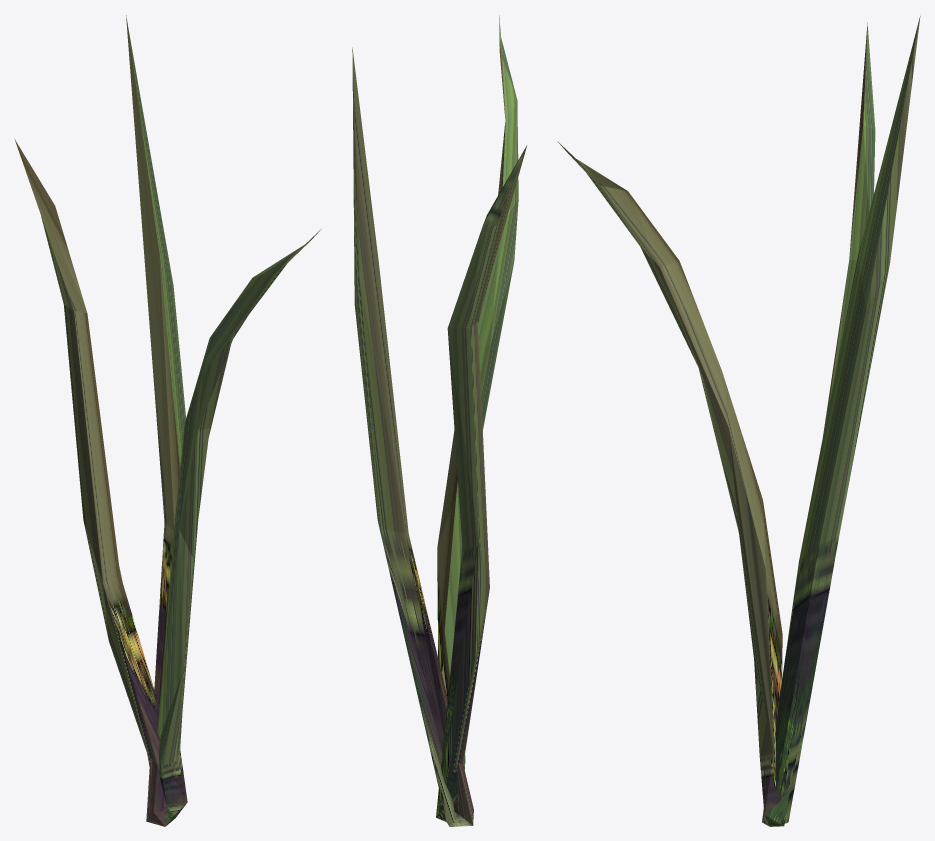
The model's file is BananaPlant_1_Branch.gltf.
3 views of the same model, side by side, from view 1: azimuth 30°, elevation 25°; view 2: azimuth 150°, elevation 25°; view 3: azimuth 270°, elevation 25° (orthographic). The views are drawn at different scales.
Parts seen in each view (by area): view 1: BananaPlant_1_Branch; view 2: BananaPlant_1_Branch; view 3: BananaPlant_1_Branch.
Boxes of the visible parts, <box> form: BananaPlant_1_Branch: <box>14,15,321,826</box>; BananaPlant_1_Branch: <box>352,15,527,826</box>; BananaPlant_1_Branch: <box>557,16,920,826</box>.
Bounding box in the file's own units: 1.04 × 4.47 × 1.79.
Materials: 1 (1 with a texture image).
